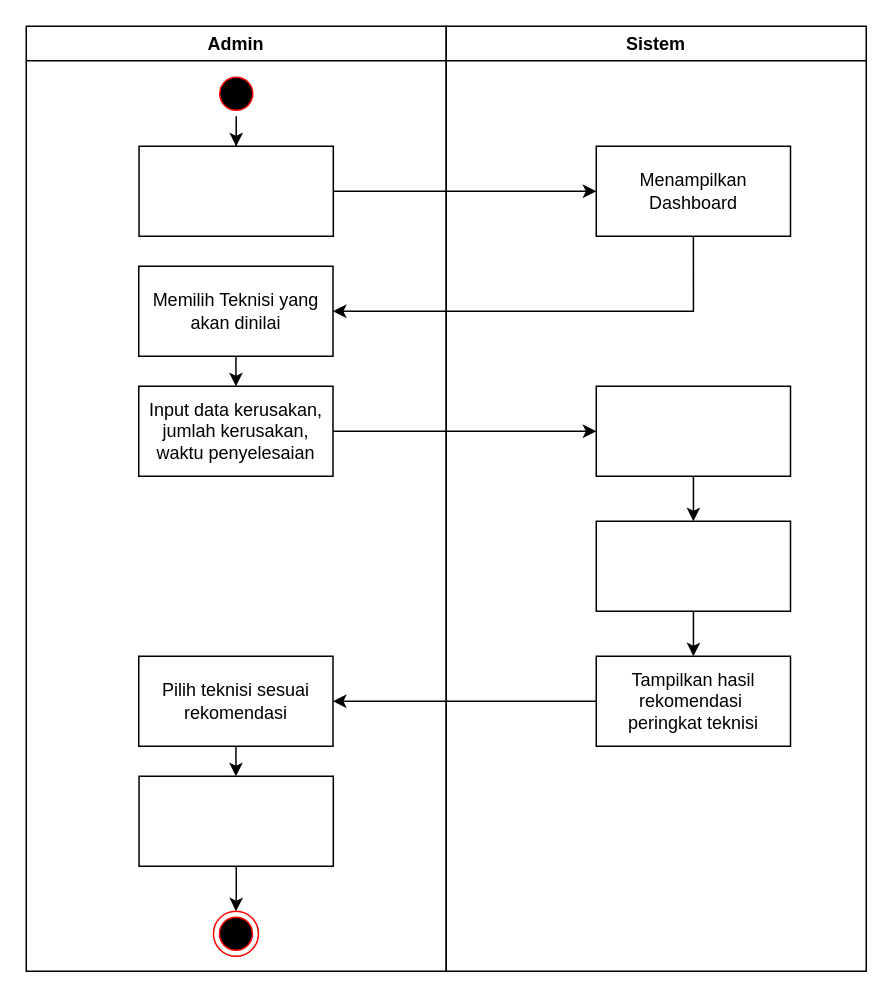
Some shapes in this 893 by 998 pixel diagram are drawn without their labels. Here are the shapes that lost their labels. From the top down, the box of each, then its label:
(138, 145, 333, 236): Login ke aplikasi
(595, 385, 790, 476): Proses data dengan Fuzzy Tsukamoto (fuzzifikasi, inferensi, defuzzifikasi)
(595, 520, 790, 611): Simpan hasil ke database
(138, 775, 333, 866): Teknisi menangani kendaraan
